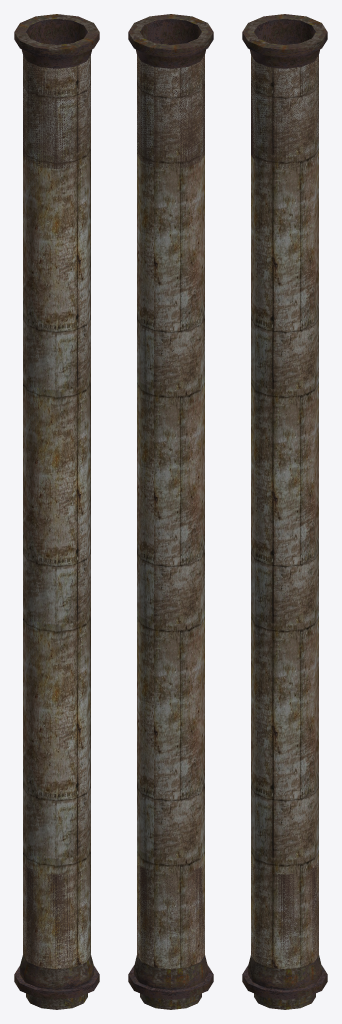
Rendered from railpipe_s02.glb.
3 views of the same model, side by side, from view 1: azimuth 30°, elevation 25°; view 2: azimuth 150°, elevation 25°; view 3: azimuth 330°, elevation 25° (orthographic).
Size of the model in its own units: 41.38 by 516 by 41.38.
3 materials, 3 textured.
